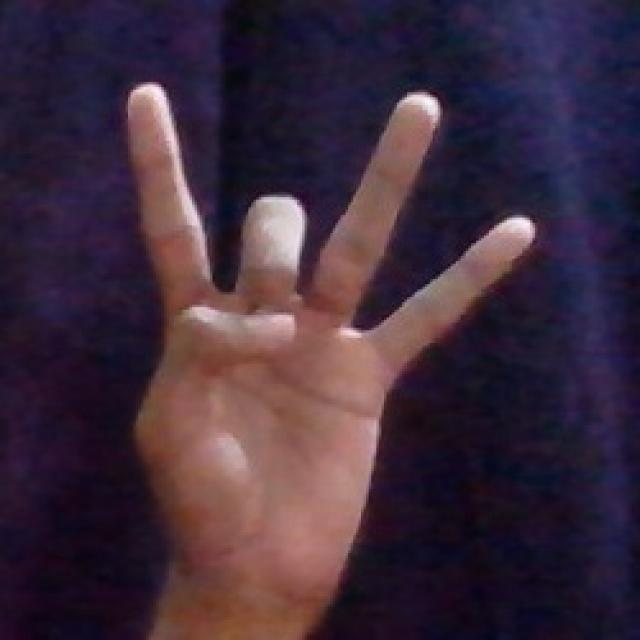Numeric-8: (124, 70, 540, 584)
